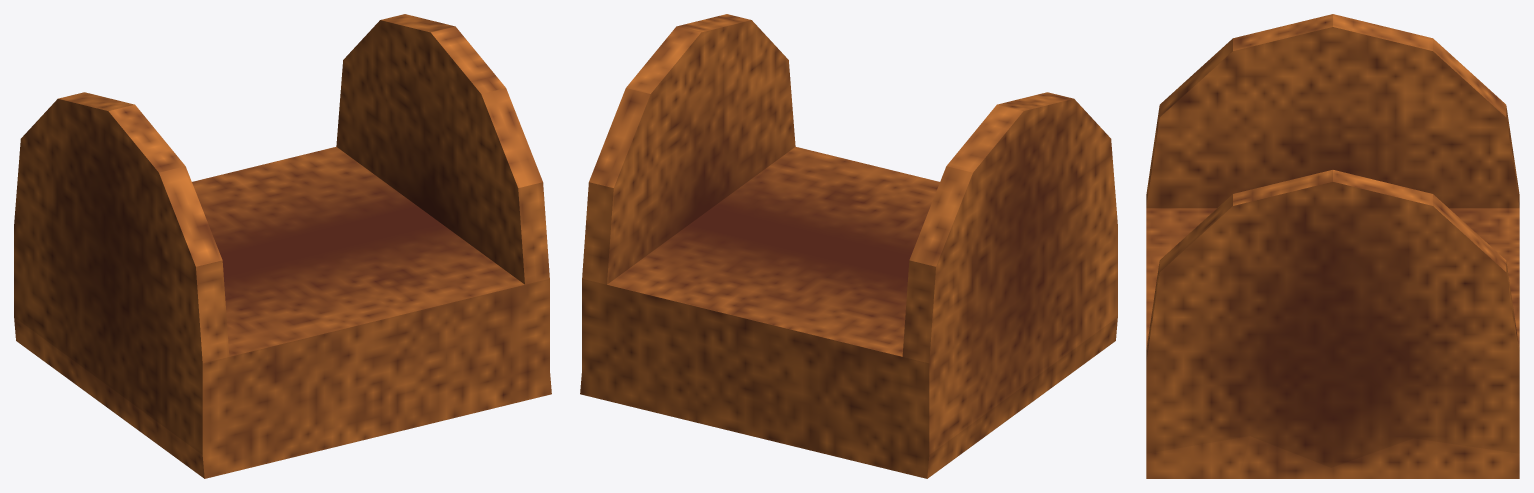
The picture shows the model from 3 angles, left to right: view 1: azimuth 30°, elevation 25°; view 2: azimuth 150°, elevation 25°; view 3: azimuth 270°, elevation 25°; orthographic projection.
Parts seen in each view (by area): view 1: Cylinder.021; view 2: Cylinder.021; view 3: Cylinder.021.
Boxes of the visible parts, x1,y1,x2,y2 form: Cylinder.021: (14,14,551,478); Cylinder.021: (580,14,1117,478); Cylinder.021: (1146,14,1519,478).
Size of the model in its own units: 0.4488 by 0.3675 by 0.4198.
Materials: 1 (1 with a texture image).
